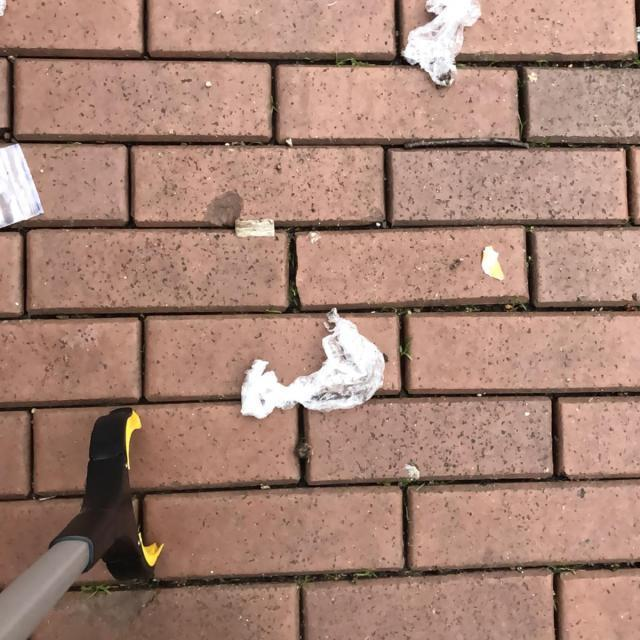Paper: (238, 313, 386, 421), (400, 0, 484, 88)
Plastic: (0, 142, 45, 232)
